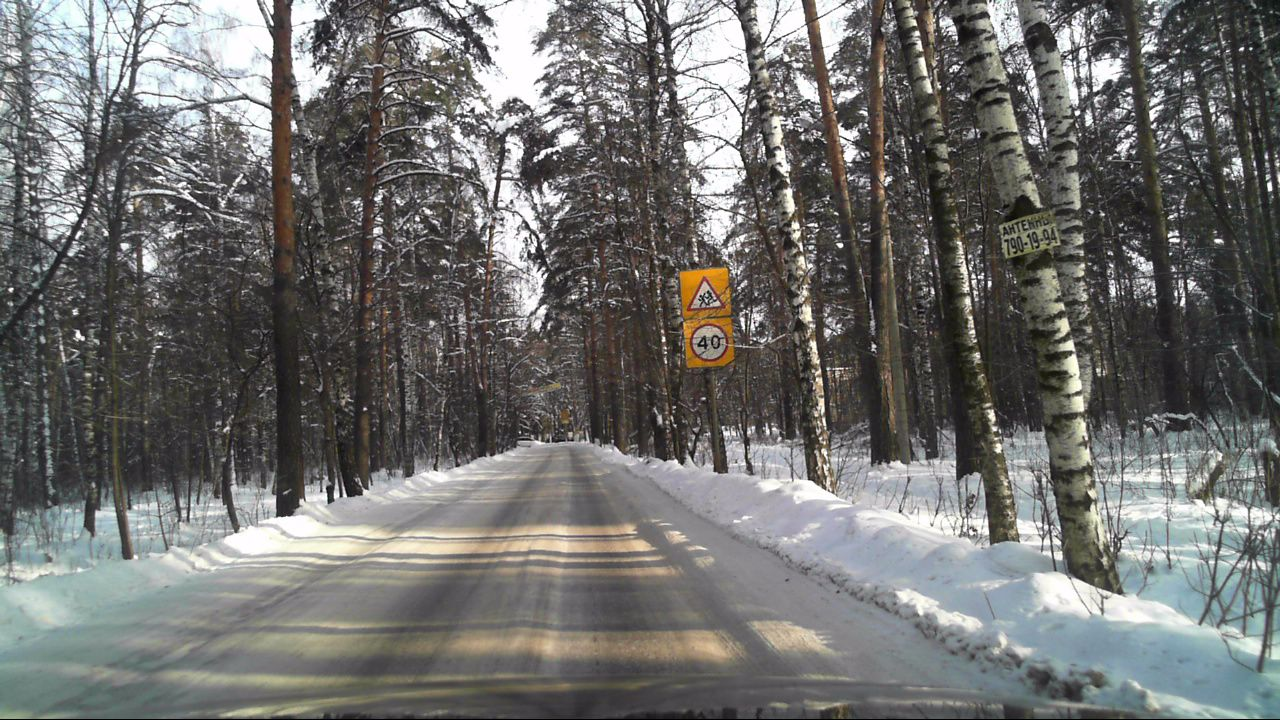speed_warning_40: (682, 318, 735, 368)
